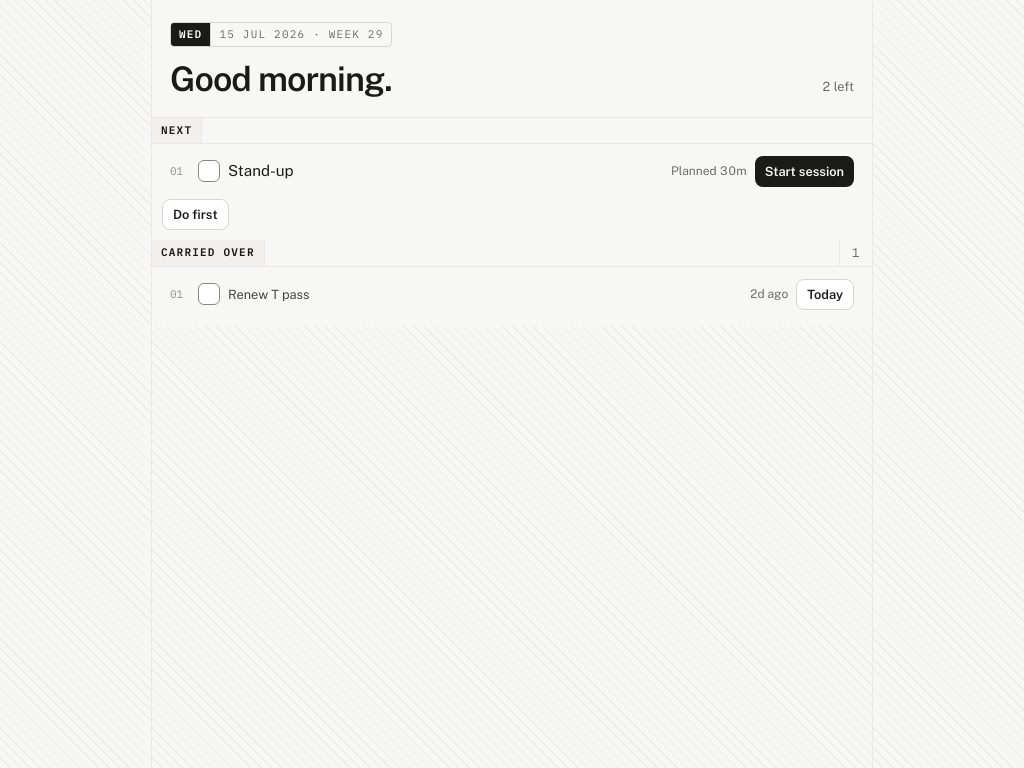
carried over › places a row on today and the row leaves the section
Click the button with aria-label "Plan “Renew T pass” today".
click(825, 294)  # box x1=796 y1=279 x2=854 y2=310
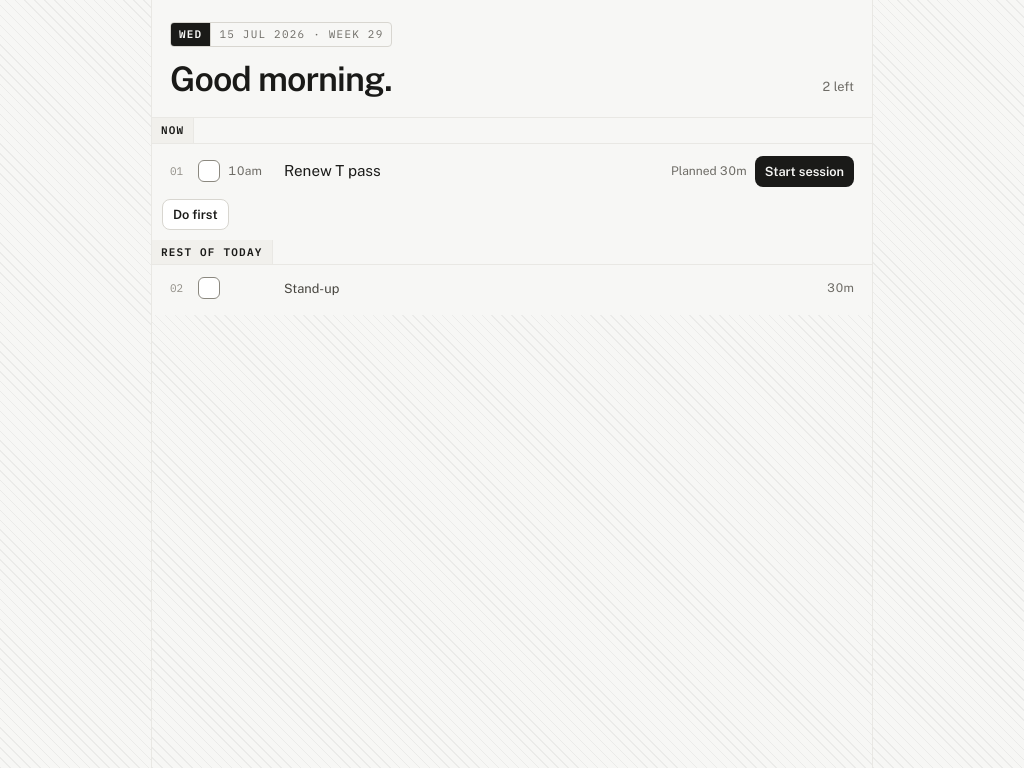
Expected: the text labelled "Carried over" is gone
